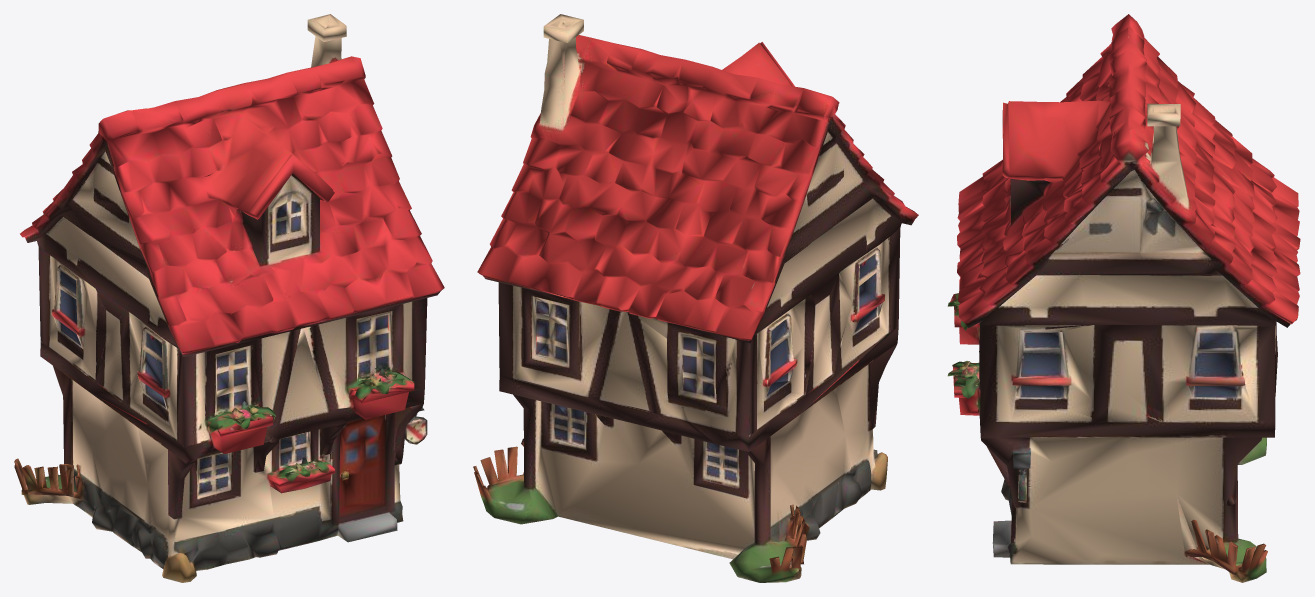
File: house_terra.glb
The picture shows the model from 3 angles, left to right: view 1: azimuth 30°, elevation 25°; view 2: azimuth 150°, elevation 25°; view 3: azimuth 270°, elevation 25°; orthographic projection. The views are drawn at different scales.
Visible parts, largest first — view 1: ЦІЛЬ; view 2: ЦІЛЬ; view 3: ЦІЛЬ.
Boxes of the visible parts, left/top/right/bottom form: ЦІЛЬ: left=14, top=14, right=444, bottom=582; ЦІЛЬ: left=473, top=14, right=918, bottom=582; ЦІЛЬ: left=947, top=14, right=1300, bottom=582.
Bounding box in the file's own units: 1.57 × 2.1 × 1.48.
Materials: 1 (1 with a texture image).
